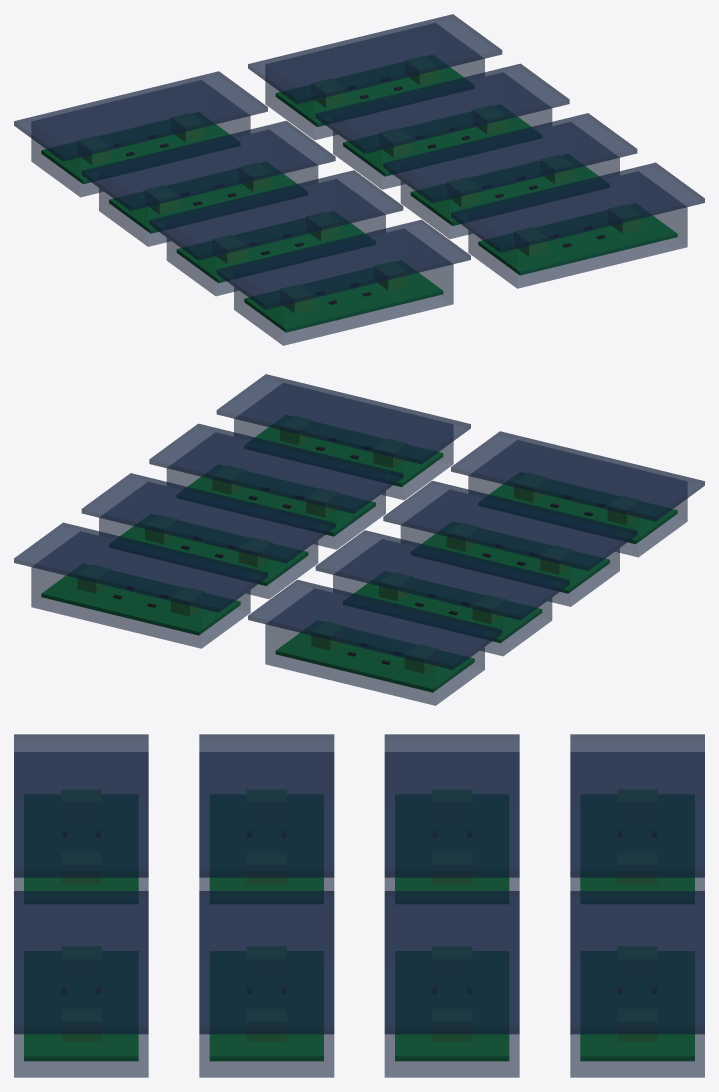
File: HR30_eight_source_local_pickoff_pods_candidate.glb
3 views of the same model, one above another, from view 1: azimuth 30°, elevation 25°; view 2: azimuth 150°, elevation 25°; view 3: azimuth 270°, elevation 25° (orthographic). The views are drawn at different scales.
Parts seen in each view (by area): view 1: DP-02_ENCLOSURE, DP-01_ENCLOSURE, DP-06_ENCLOSURE, DP-03_ENCLOSURE, DP-05_ENCLOSURE, DP-08_ENCLOSURE, DP-04_FLANGED_LID, DP-07_FLANGED_LID, DP-08_FLANGED_LID, DP-01_FLANGED_LID, DP-03_FLANGED_LID, DP-05_FLANGED_LID (+28 smaller); view 2: DP-08_ENCLOSURE, DP-07_ENCLOSURE, DP-05_ENCLOSURE, DP-04_ENCLOSURE, DP-03_ENCLOSURE, DP-02_ENCLOSURE, DP-06_ENCLOSURE, DP-06_FLANGED_LID, DP-01_FLANGED_LID, DP-02_FLANGED_LID, DP-05_FLANGED_LID, DP-07_FLANGED_LID (+28 smaller); view 3: DP-03_FLANGED_LID, DP-05_FLANGED_LID, DP-04_FLANGED_LID, DP-06_FLANGED_LID, DP-01_FLANGED_LID, DP-02_FLANGED_LID, DP-07_FLANGED_LID, DP-08_FLANGED_LID, DP-08_ENCLOSURE, DP-02_ENCLOSURE, DP-04_ENCLOSURE, DP-06_ENCLOSURE (+28 smaller).
Boxes of the visible parts, x1,y1,x2,y2 form: DP-02_ENCLOSURE: [468, 171, 687, 288]; DP-01_ENCLOSURE: [234, 229, 453, 345]; DP-06_ENCLOSURE: [333, 73, 552, 189]; DP-03_ENCLOSURE: [166, 179, 385, 296]; DP-05_ENCLOSURE: [99, 130, 318, 246]; DP-08_ENCLOSURE: [265, 23, 484, 139]; DP-04_FLANGED_LID: [383, 113, 637, 203]; DP-07_FLANGED_LID: [14, 71, 267, 161]; DP-08_FLANGED_LID: [248, 14, 502, 104]; DP-01_FLANGED_LID: [216, 219, 470, 309]; DP-03_FLANGED_LID: [149, 170, 403, 260]; DP-05_FLANGED_LID: [81, 120, 335, 210]; DP-08_ENCLOSURE: [31, 531, 250, 648]; DP-07_ENCLOSURE: [265, 589, 484, 705]; DP-05_ENCLOSURE: [333, 539, 552, 656]; DP-04_ENCLOSURE: [166, 433, 385, 549]; DP-03_ENCLOSURE: [400, 490, 619, 606]; DP-02_ENCLOSURE: [234, 383, 453, 499]; DP-06_ENCLOSURE: [99, 482, 318, 598]; DP-06_FLANGED_LID: [81, 473, 335, 563]; DP-01_FLANGED_LID: [451, 431, 704, 521]; DP-02_FLANGED_LID: [216, 374, 470, 464]; DP-05_FLANGED_LID: [315, 530, 569, 620]; DP-07_FLANGED_LID: [248, 579, 502, 669]; DP-03_FLANGED_LID: [199, 734, 334, 877]; DP-05_FLANGED_LID: [384, 734, 519, 877]; DP-04_FLANGED_LID: [199, 891, 334, 1034]; DP-06_FLANGED_LID: [384, 891, 519, 1034]; DP-01_FLANGED_LID: [14, 734, 148, 877]; DP-02_FLANGED_LID: [14, 891, 148, 1034]; DP-07_FLANGED_LID: [570, 734, 704, 877]; DP-08_FLANGED_LID: [570, 891, 704, 1034]; DP-08_ENCLOSURE: [570, 909, 704, 1077]; DP-02_ENCLOSURE: [14, 909, 148, 1077]; DP-04_ENCLOSURE: [199, 909, 334, 1077]; DP-06_ENCLOSURE: [384, 909, 519, 1077].
Bounding box in the file's own units: 206 × 20 × 205.
